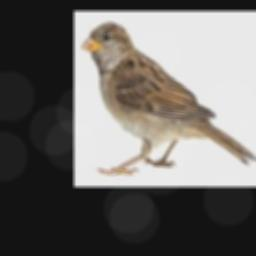Sparrow: (81, 22, 256, 175)
